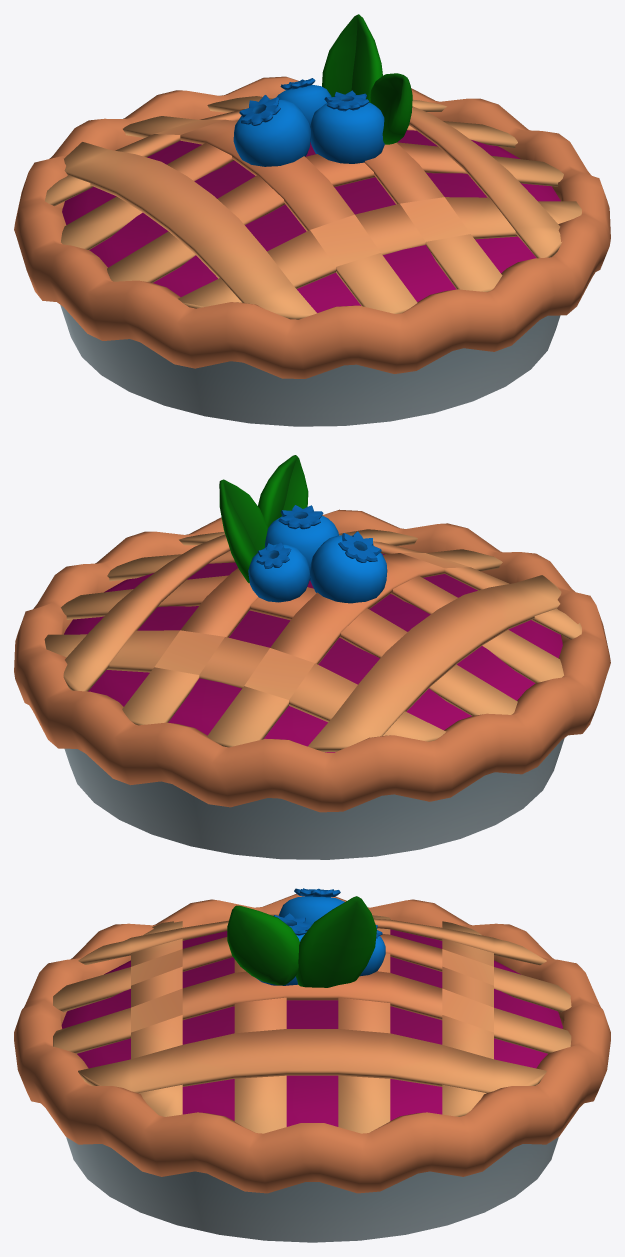
File: Pie_Cherry_V1_00.fbx
3 renders of one model, top to bottom at view 1: azimuth 30°, elevation 25°; view 2: azimuth 150°, elevation 25°; view 3: azimuth 270°, elevation 25°, orthographic.
Parts seen in each view (by area): view 1: Pie_Cherry_V1_00; view 2: Pie_Cherry_V1_00; view 3: Pie_Cherry_V1_00.
Boxes of the visible parts, left/top/right/bottom form: Pie_Cherry_V1_00: left=14, top=14, right=610, bottom=426; Pie_Cherry_V1_00: left=14, top=455, right=610, bottom=859; Pie_Cherry_V1_00: left=14, top=888, right=610, bottom=1242.
Bounding box in the file's own units: 99.45 × 50.86 × 99.45.
